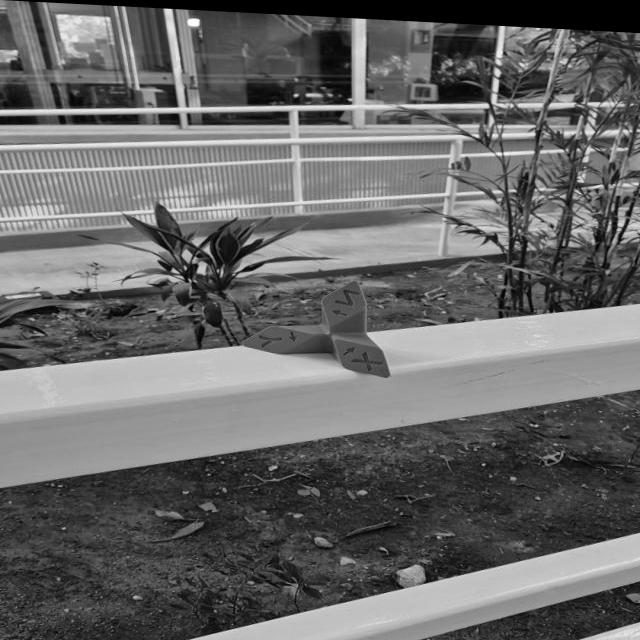eje: (241, 273, 394, 380)
